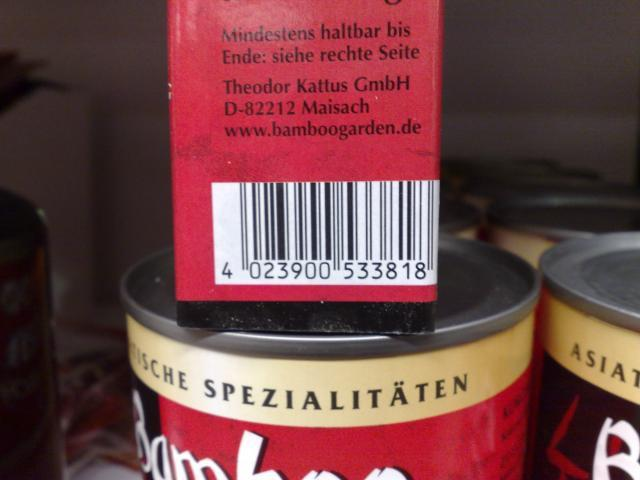Barcode: (211, 179, 438, 286)
